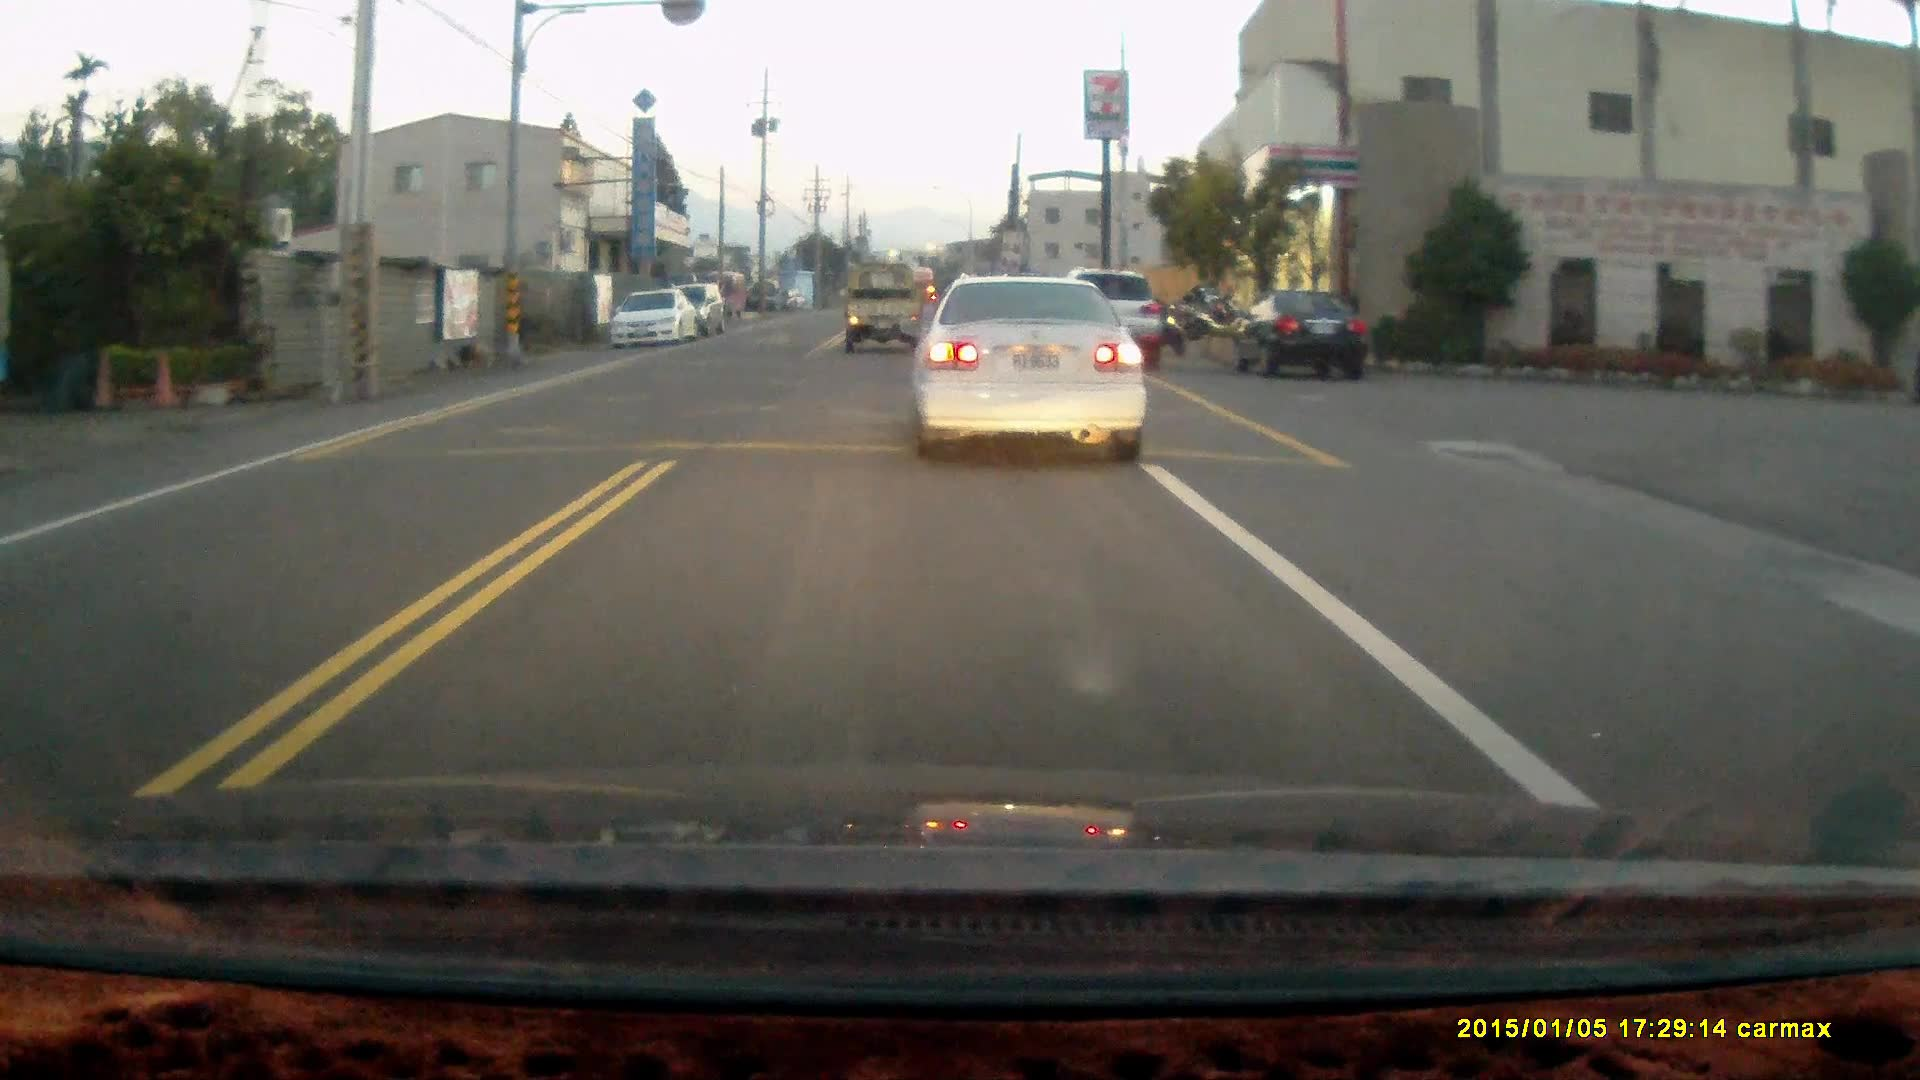vehicle: (914, 269, 1156, 462), (1226, 287, 1373, 382), (1054, 269, 1171, 372), (841, 265, 934, 356), (603, 285, 703, 349)
